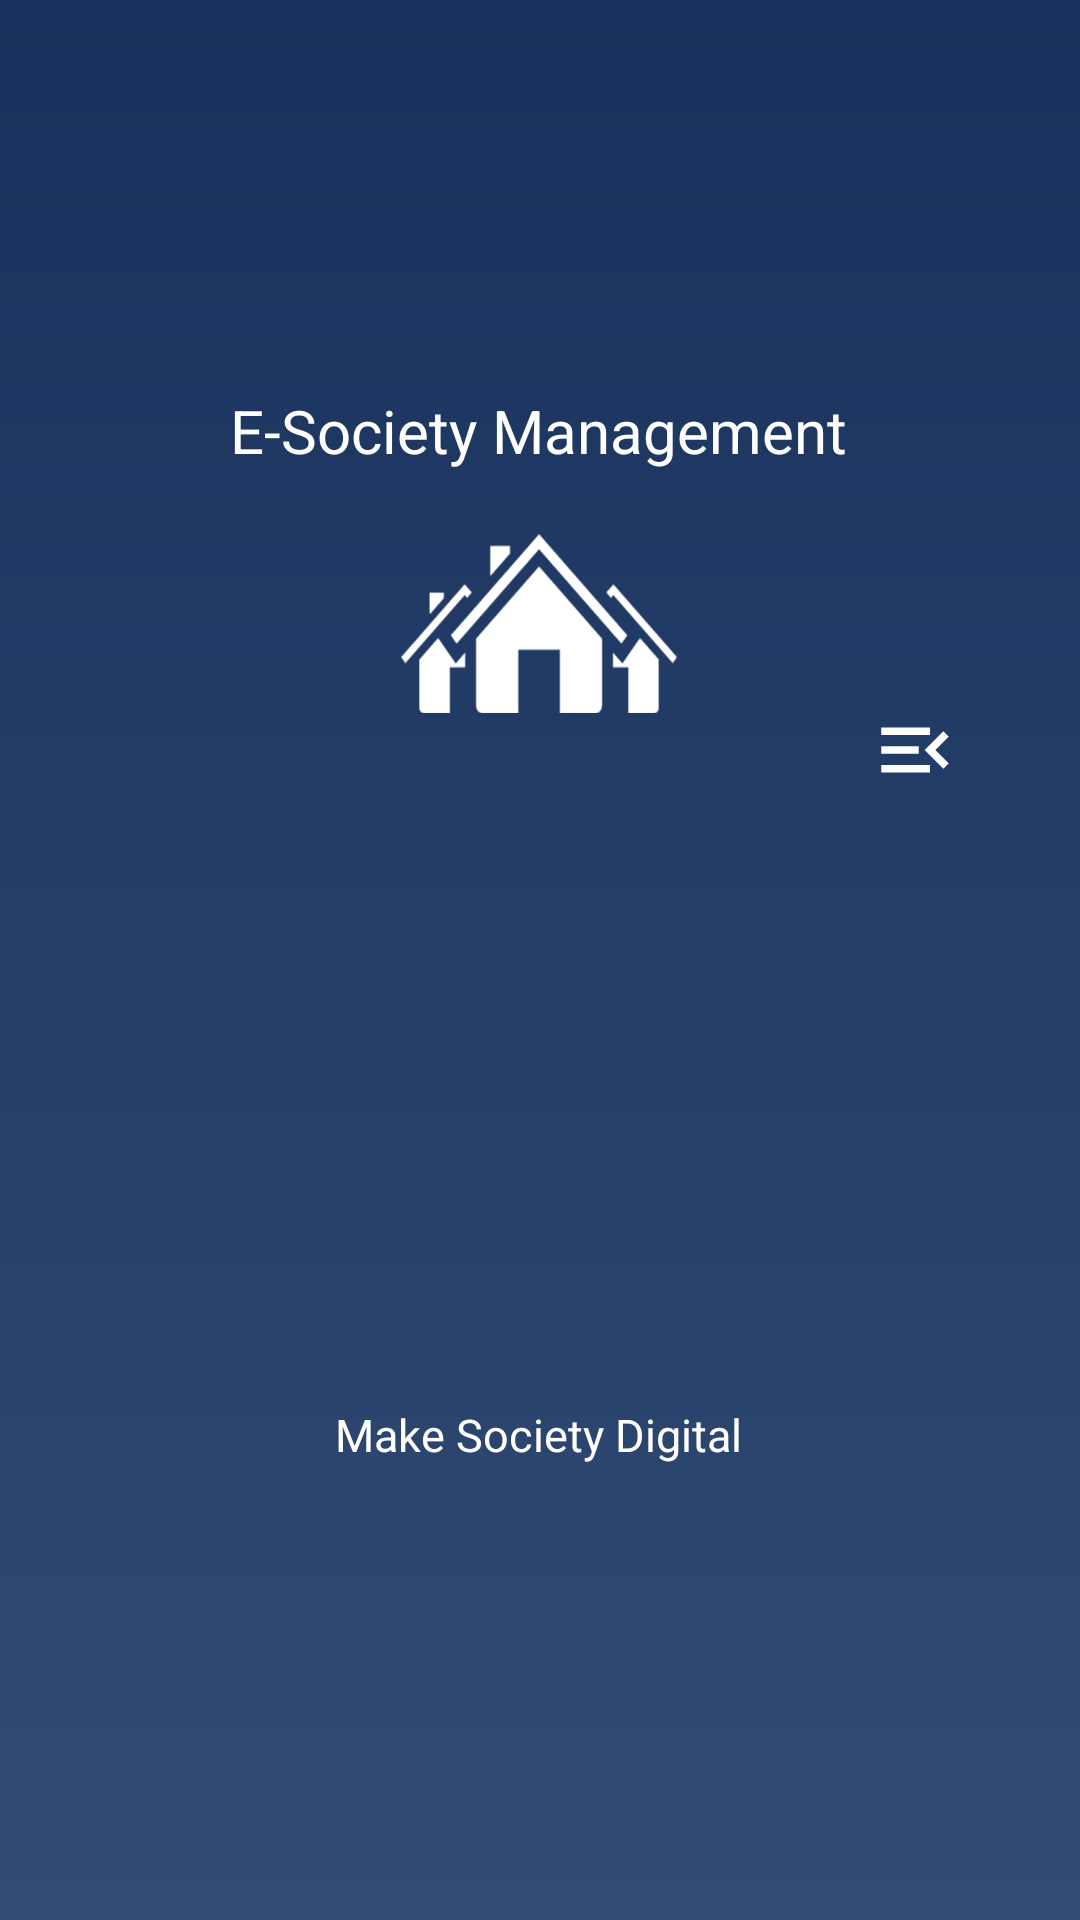

Where icons sit on this 1080×1920 app screen, as bbox=[x1, y1, x2, y2]:
open: bbox=[881, 727, 949, 773]
